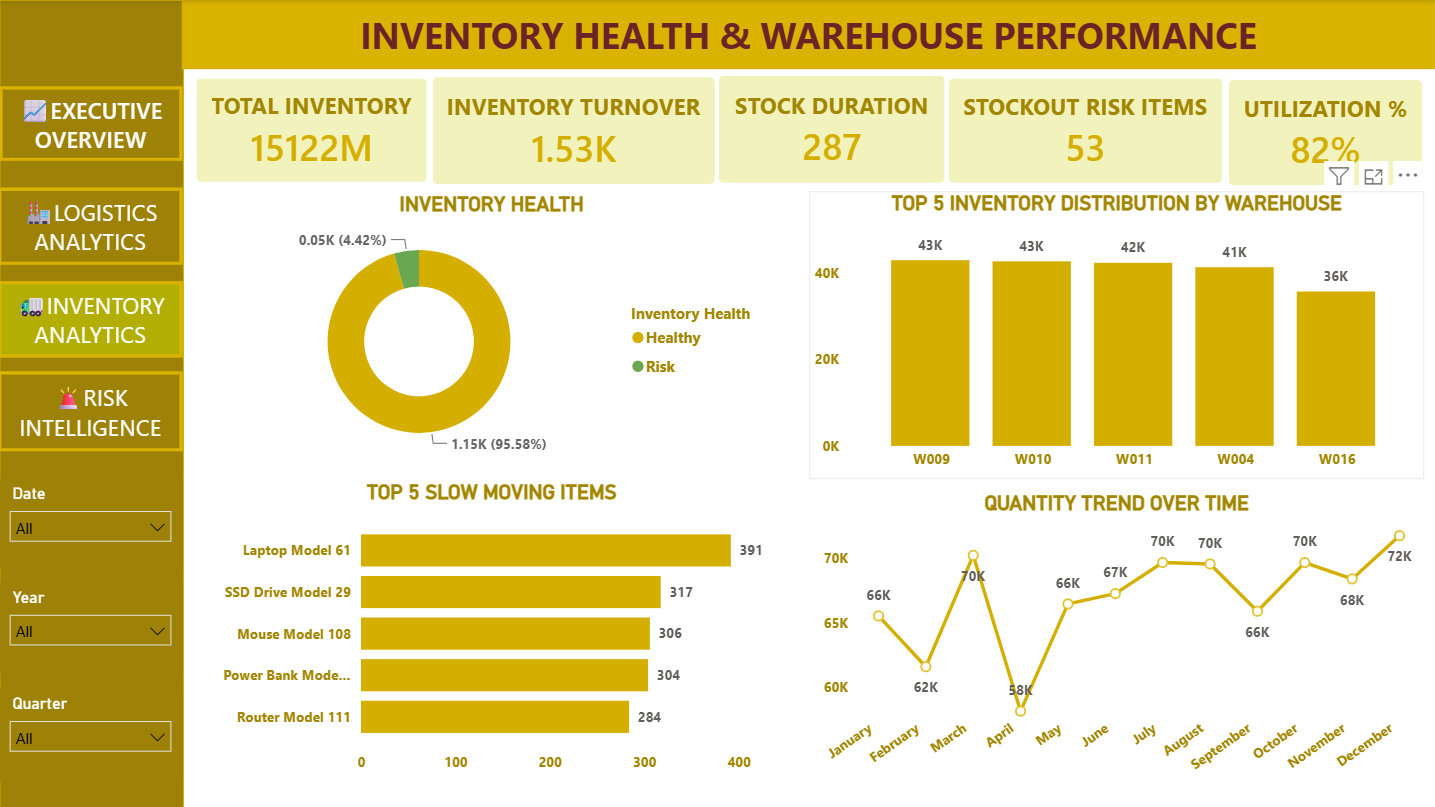

This screenshot's page, from the dashboard's own definition file:
{"tool":"powerbi","page":{"name":"Inventory Analysis","canvas":[1280,720],"ordinal":2},"visuals":[{"type":"shape","box":[1.2,0,164.5,720],"z":0},{"type":"actionButton","box":[1.2,76.3,163.3,66.8],"z":1000},{"type":"actionButton","box":[0,166.9,164.5,69.1],"z":2000},{"type":"actionButton","box":[0,250.3,164.5,67.9],"z":3000},{"type":"actionButton","box":[0,330.2,164.5,71.5],"z":4000},{"type":"slicer","fields":{"Values":["DIM_DATE.Year"]},"box":[0,518.5,164.5,81.1],"z":5000},{"type":"slicer","fields":{"Values":["DIM_DATE.Date"]},"box":[0,426.7,164.5,79.9],"z":6000},{"type":"slicer","fields":{"Values":["DIM_DATE.Quarter"]},"box":[0,613.9,164.5,83.4],"z":7000},{"type":"shape","box":[164,0,1116.3,61.6],"z":8000},{"type":"cardVisual","fields":{"Data":["FACT_INVENTORY.Total Inventory"]},"box":[165.1,58.1,229.1,116.3],"z":9000},{"type":"cardVisual","fields":{"Data":["FACT_INVENTORY.Inventory Turnover"]},"box":[375.6,57,275.6,119.8],"z":10000},{"type":"cardVisual","fields":{"Data":["FACT_INVENTORY.Stock Duration"]},"box":[630.2,55.8,225.6,119.8],"z":11000},{"type":"cardVisual","fields":{"Data":["FACT_INVENTORY.Stockout Risk Items"]},"box":[834.9,58.1,267.4,117.4],"z":12000},{"type":"cardVisual","fields":{"Data":["FACT_INVENTORY.Utilization %"]},"box":[1083.7,59.3,196.5,118.6],"z":13000},{"type":"clusteredColumnChart","title":"TOP 5 INVENTORY DISTRIBUTION BY WAREHOUSE ","fields":{"Category":["DIM_WAREHOUSE.Warehouse_ID"],"Y":["Sum(FACT_SHIPMENT.Quantity)"]},"box":[722.7,170.1,547.7,257],"z":14000},{"type":"clusteredBarChart","title":"TOP 5 SLOW MOVING ITEMS ","fields":{"Category":["DIM_PRODUCTS.Product_Name"],"Y":["FACT_INVENTORY.Stock Duration"]},"box":[181,427.1,516.4,270.2],"z":15000},{"type":"lineChart","title":"QUANTITY TREND OVER TIME ","fields":{"Category":["DIM_DATE.Month"],"Y":["Sum(FACT_SHIPMENT.Quantity)"]},"box":[722.7,437.9,547.7,269],"z":16000},{"type":"donutChart","title":"INVENTORY HEALTH","fields":{"Category":["FACT_INVENTORY.Inventory Health"],"Y":["CountNonNull(FACT_INVENTORY.Inventory_ID)"]},"box":[181,171.3,516.4,244.9],"z":17000}]}

Visuals, with their boxes on the page's 1280x720 design canvas (x1, y1, x2, y2). These are canvas units, not pixel positions in the 1435x807 screenshot, which may show the page scaled, cropped or inside an application window:
shape: <box>1,0,166,720</box>
actionButton: <box>1,76,164,143</box>
actionButton: <box>0,167,164,236</box>
actionButton: <box>0,250,164,318</box>
actionButton: <box>0,330,164,402</box>
slicer - DIM_DATE.Year: <box>0,518,164,600</box>
slicer - DIM_DATE.Date: <box>0,427,164,507</box>
slicer - DIM_DATE.Quarter: <box>0,614,164,697</box>
shape: <box>164,0,1280,62</box>
cardVisual - FACT_INVENTORY.Total Inventory: <box>165,58,394,174</box>
cardVisual - FACT_INVENTORY.Inventory Turnover: <box>376,57,651,177</box>
cardVisual - FACT_INVENTORY.Stock Duration: <box>630,56,856,176</box>
cardVisual - FACT_INVENTORY.Stockout Risk Items: <box>835,58,1102,176</box>
cardVisual - FACT_INVENTORY.Utilization %: <box>1084,59,1280,178</box>
"TOP 5 INVENTORY DISTRIBUTION BY WAREHOUSE " clusteredColumnChart: <box>723,170,1270,427</box>
"TOP 5 SLOW MOVING ITEMS " clusteredBarChart: <box>181,427,697,697</box>
"QUANTITY TREND OVER TIME " lineChart: <box>723,438,1270,707</box>
"INVENTORY HEALTH" donutChart: <box>181,171,697,416</box>
